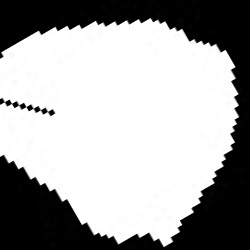spot: (0, 18, 239, 247)
